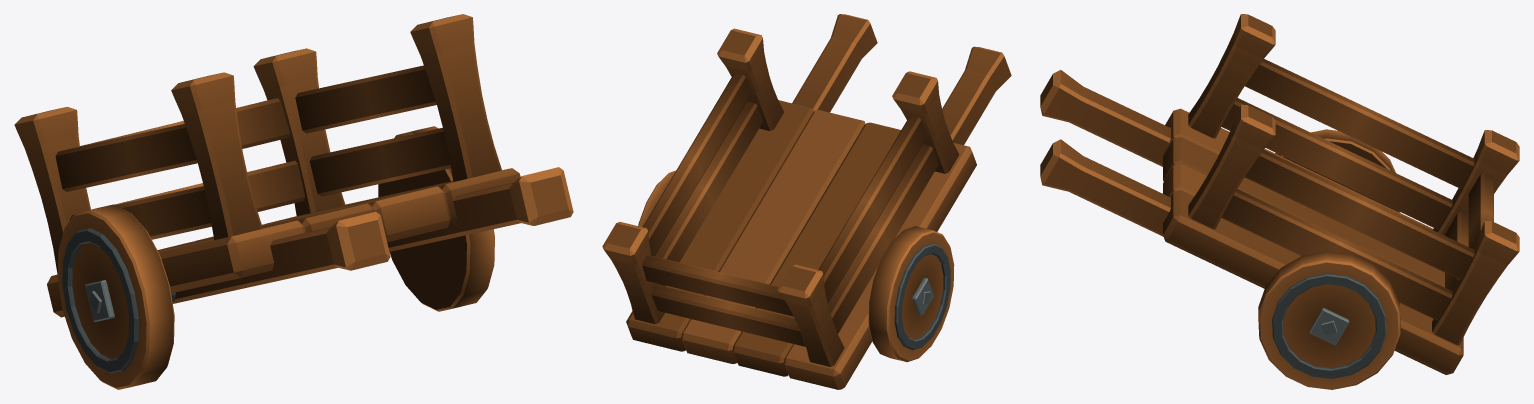
The model's file is Cart-1.fbx.
3 views of the same model, side by side, from view 1: azimuth 30°, elevation 25°; view 2: azimuth 150°, elevation 25°; view 3: azimuth 270°, elevation 25° (orthographic). The views are drawn at different scales.
Parts seen in each view (by area): view 1: Cart-1; view 2: Cart-1; view 3: Cart-1.
Part boxes in pixels (box(x1,y1,x2,y2)): Cart-1: box(14, 14, 573, 389); Cart-1: box(602, 14, 1011, 389); Cart-1: box(1040, 14, 1519, 389).
Size of the model in its own units: 271 by 237 by 397.
